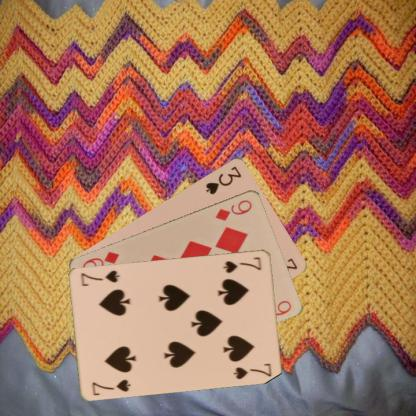3s: (203, 163, 243, 196)
7s: (220, 254, 263, 274), (90, 376, 132, 396)
9d: (213, 196, 253, 222)
